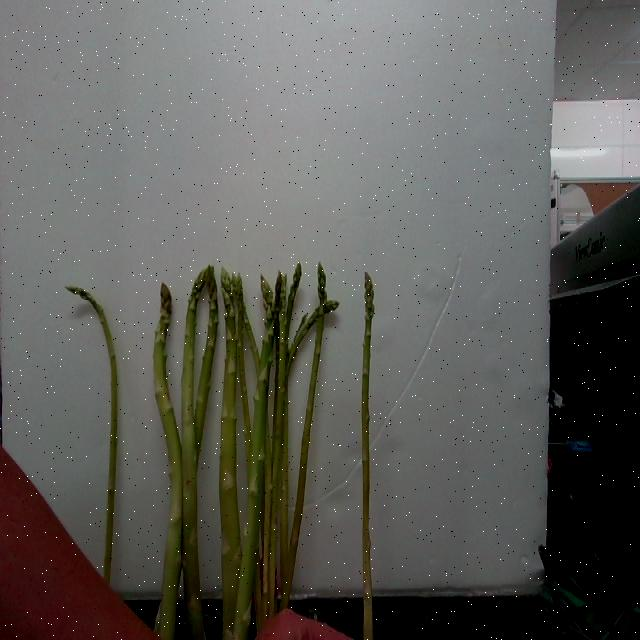aspargus: (66, 287, 120, 592), (361, 274, 375, 640)
